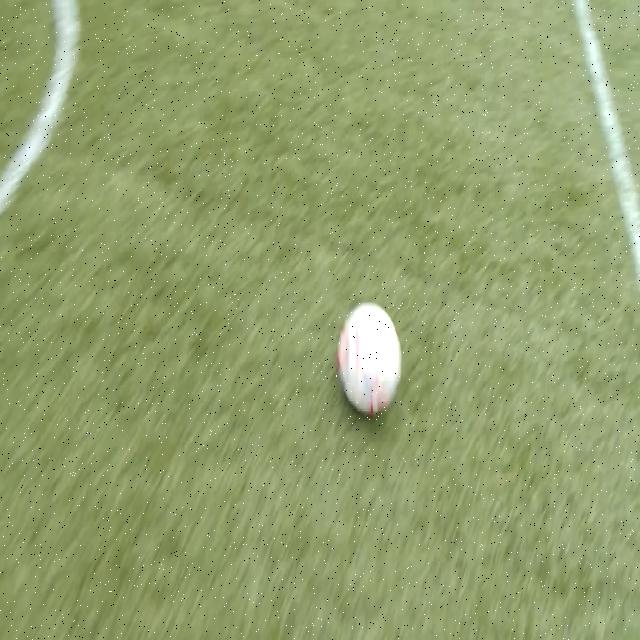ball: (338, 302, 401, 414)
